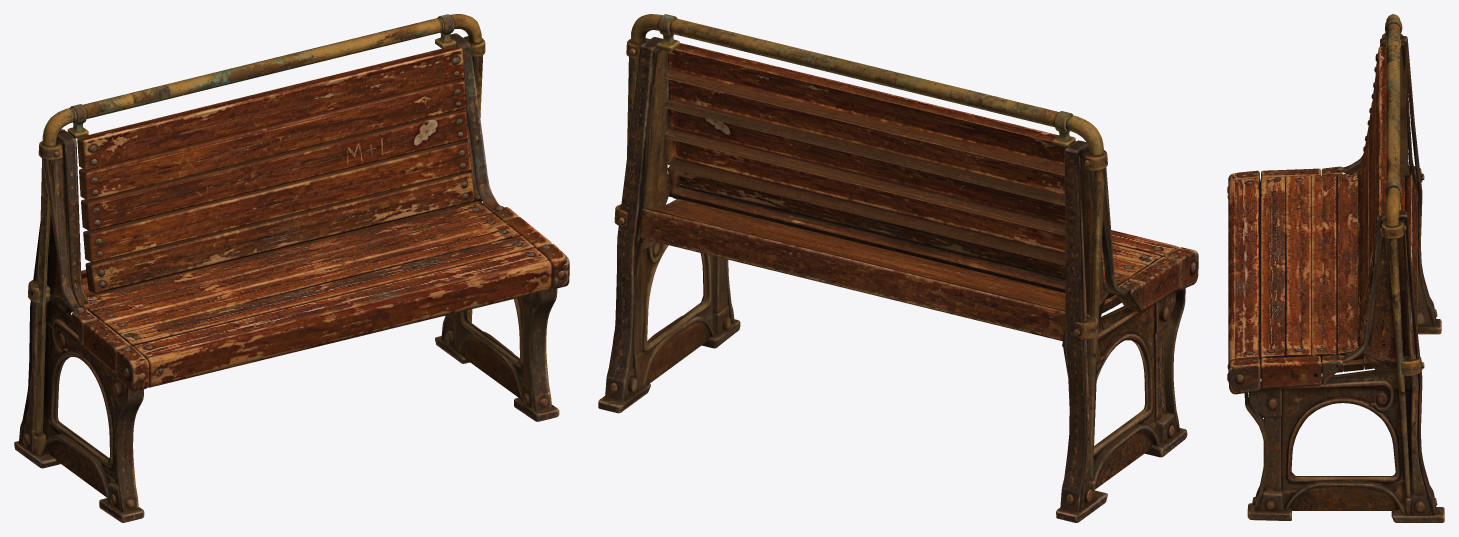
The model's file is second-class-bench-carved.glb.
The picture shows the model from 3 angles, left to right: view 1: azimuth 30°, elevation 25°; view 2: azimuth 150°, elevation 25°; view 3: azimuth 270°, elevation 25°; orthographic projection. The views are drawn at different scales.
Parts seen in each view (by area): view 1: SM_BT_SecondClassBench; view 2: SM_BT_SecondClassBench; view 3: SM_BT_SecondClassBench.
Part boxes in pixels (left/top/right/bottom): SM_BT_SecondClassBench: left=14, top=14, right=569, bottom=522; SM_BT_SecondClassBench: left=598, top=14, right=1198, bottom=522; SM_BT_SecondClassBench: left=1227, top=14, right=1444, bottom=522.
Bounding box in the file's own units: 1.2 × 0.91 × 0.5563.
Materials: 2 (2 with a texture image).
